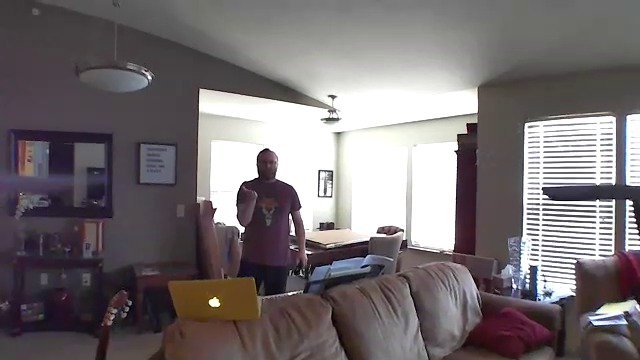land: (240, 180, 258, 197)
